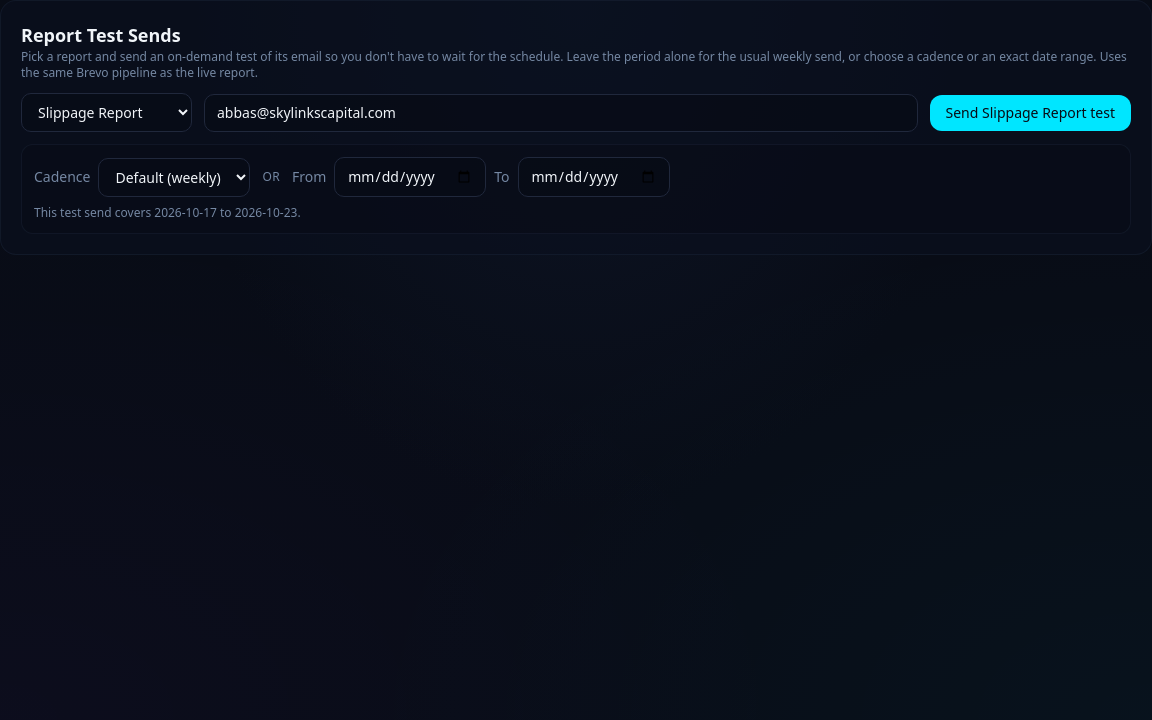
Test: ReportTestSendPanel: cadence and dates are alternatives › stands the cadence picker down once a date is entered
Type "2026-08-01" into the date field named "From date" at (410, 177), box [334, 157, 486, 197]
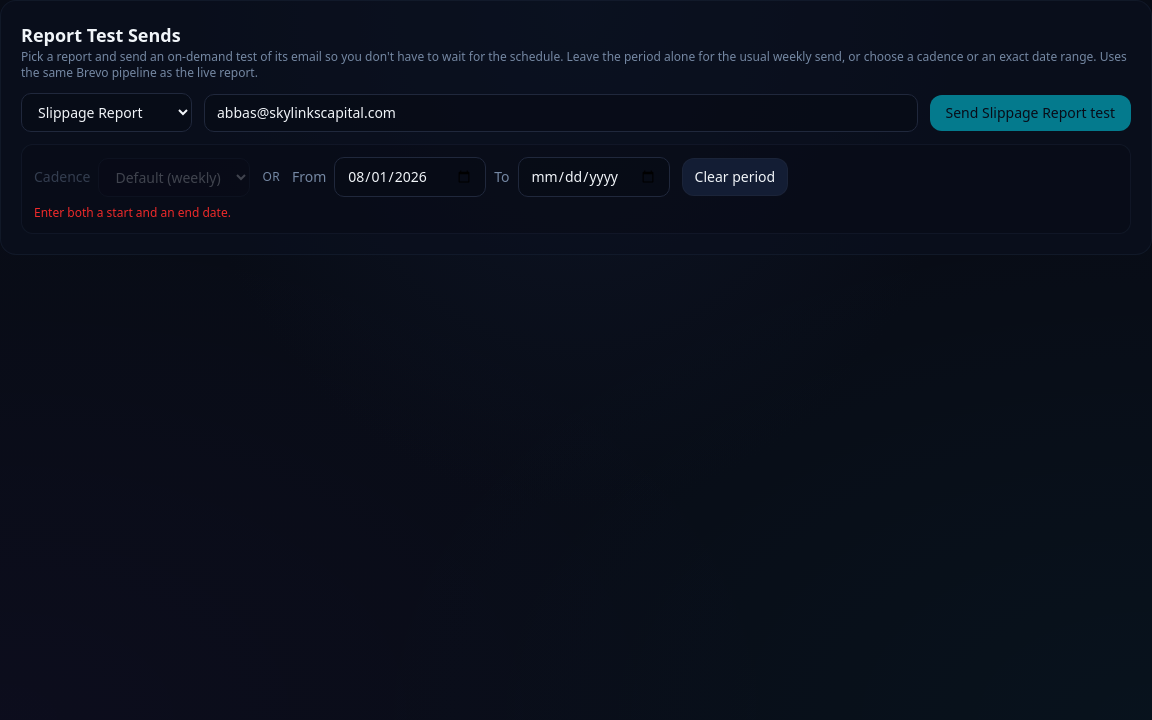
Expected: the dropdown labelled "Cadence" is disabled, [98, 158, 250, 196]
